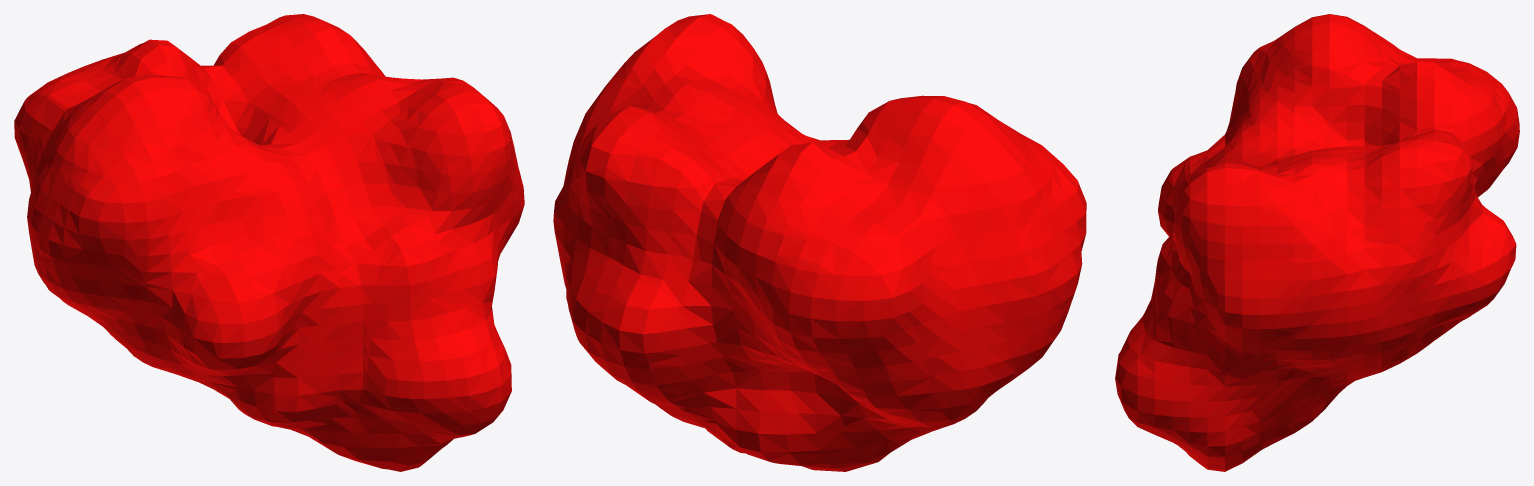
The model's file is artP_coarse.dae.
3 renders of one model, left to right at view 1: azimuth 30°, elevation 25°; view 2: azimuth 150°, elevation 25°; view 3: azimuth 270°, elevation 25°, orthographic. The views are drawn at different scales.
Parts seen in each view (by area): view 1: artP; view 2: artP; view 3: artP.
Part boxes in pixels (<box>): artP: <box>14,14,524,471</box>; artP: <box>553,14,1086,471</box>; artP: <box>1115,14,1519,471</box>.
Size of the model in its own units: 55.89 by 48.1 by 49.04.
